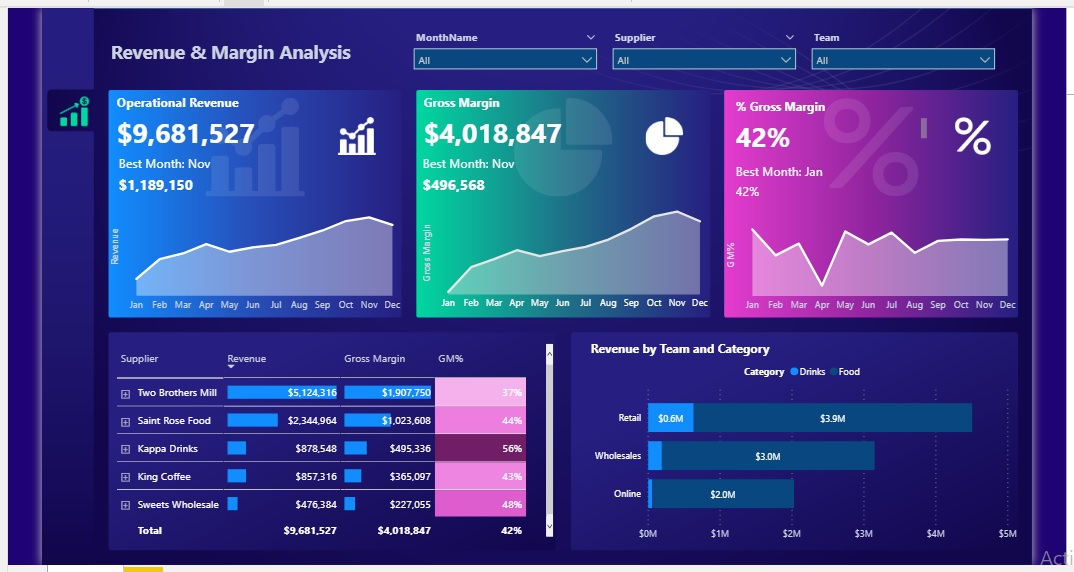

Layout of this report page (visuals, bound fields, positions):
{"tool":"powerbi","page":{"name":"Page 1","canvas":[1280,720],"ordinal":0},"visuals":[{"type":"barChart","fields":{"Category":["Revenue.Team"],"Y":["Revenue.Revenue"],"Series":["dProduct.Category"]},"box":[704.4,428.9,560.9,268.4],"z":0},{"type":"multiRowCard","title":"Operational Revenue","fields":{"Values":["Key Measures.Revenue"]},"box":[92.3,110.8,336.6,83.8],"z":1000},{"type":"pivotTable","fields":{"Rows":["dProduct.Supplier","dProduct.Group"],"Values":["Revenue.Revenue","Revenue.Gross Margin","Revenue.GM%"]},"box":[92.3,428.9,573.7,268.4],"z":2000},{"type":"areaChart","fields":{"Y":["Key Measures.Revenue"],"Category":["Date.MonthName"]},"box":[83.8,230.1,386.3,171.8],"z":3000},{"type":"multiRowCard","title":"Operational Revenue","fields":{"Values":["Key Measures.Revenue","Key Measures.Best Month"]},"box":[93.7,184.6,336.6,69.6],"z":4000},{"type":"textbox","box":[84,35.3,386.4,63.8],"z":5000},{"type":"slicer","fields":{"Values":["Date.MonthName"]},"box":[470.3,23.5,257,75.6],"z":6000},{"type":"slicer","fields":{"Values":["dProduct.Supplier"]},"box":[727.3,23.5,257,75.6],"z":7000},{"type":"slicer","fields":{"Values":["Revenue.Team"]},"box":[984.4,23.5,257,75.6],"z":8000},{"type":"multiRowCard","title":"Gross Margin","fields":{"Values":["Key Measures.Gross Margin"]},"box":[488.5,110.8,257,83.8],"z":9000},{"type":"multiRowCard","title":"Gross Margin","fields":{"Values":["Key Measures.Gross Margin","Key Measures.Best Month"]},"box":[487.1,184.8,257,68.9],"z":10000},{"type":"areaChart","fields":{"Category":["Date.MonthName"],"Y":["Key Measures.Gross Margin"]},"box":[487.1,248.6,379.6,151.2],"z":11000},{"type":"multiRowCard","title":"% Gross Margin","fields":{"Values":["Key Measures.GM%"]},"box":[892,115.9,257,68.9],"z":12000},{"type":"multiRowCard","fields":{"Values":["Key Measures.GM%","Key Measures.Best Month"]},"box":[892,194.9,257,58.8],"z":13000},{"type":"areaChart","fields":{"Category":["Date.MonthName"],"Y":["Key Measures.GM%"]},"box":[880.2,253.6,384.7,147.8],"z":13001},{"type":"image","box":[0,99.4,83.8,68.2],"z":13002}]}

Visuals, with their boxes on the page's 1280x720 design canvas (x1, y1, x2, y2). These are canvas units, not pixel positions in the 1074x572 screenshot, which may show the page scaled, cropped or inside an application window:
barChart - Revenue.Team x Revenue.Revenue: select_region(704, 429, 1265, 697)
"Operational Revenue" multiRowCard: select_region(92, 111, 429, 195)
pivotTable - dProduct.Supplier x dProduct.Group: select_region(92, 429, 666, 697)
areaChart - Key Measures.Revenue x Date.MonthName: select_region(84, 230, 470, 402)
"Operational Revenue" multiRowCard: select_region(94, 185, 430, 254)
textbox: select_region(84, 35, 470, 99)
slicer - Date.MonthName: select_region(470, 24, 727, 99)
slicer - dProduct.Supplier: select_region(727, 24, 984, 99)
slicer - Revenue.Team: select_region(984, 24, 1241, 99)
"Gross Margin" multiRowCard: select_region(488, 111, 746, 195)
"Gross Margin" multiRowCard: select_region(487, 185, 744, 254)
areaChart - Date.MonthName x Key Measures.Gross Margin: select_region(487, 249, 867, 400)
"% Gross Margin" multiRowCard: select_region(892, 116, 1149, 185)
multiRowCard - Key Measures.GM% x Key Measures.Best Month: select_region(892, 195, 1149, 254)
areaChart - Date.MonthName x Key Measures.GM%: select_region(880, 254, 1265, 401)
image: select_region(0, 99, 84, 168)
